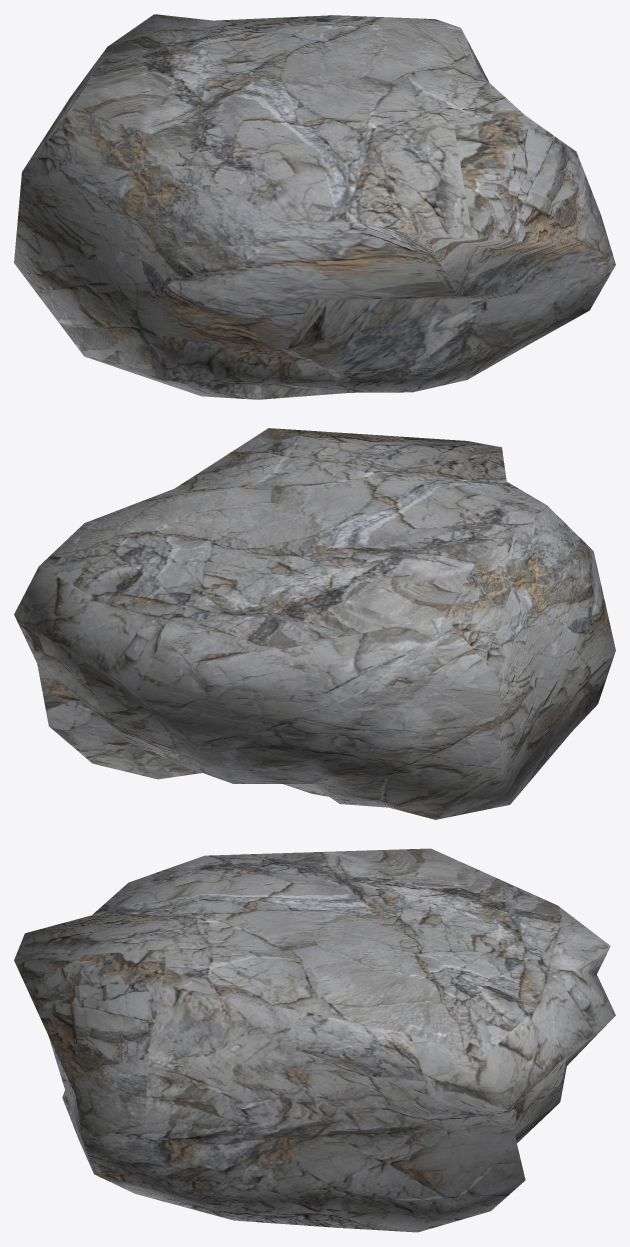
The model's file is Rock1.obj.
3 renders of one model, top to bottom at view 1: azimuth 30°, elevation 25°; view 2: azimuth 150°, elevation 25°; view 3: azimuth 270°, elevation 25°, orthographic.
Parts seen in each view (by area): view 1: Cube; view 2: Cube; view 3: Cube.
Boxes of the visible parts, x1,y1,x2,y2 form: Cube: (14, 14, 615, 399); Cube: (14, 428, 615, 819); Cube: (14, 848, 615, 1232).
Size of the model in its own units: 3.18 by 1.68 by 3.63.
1 material, 1 textured.
